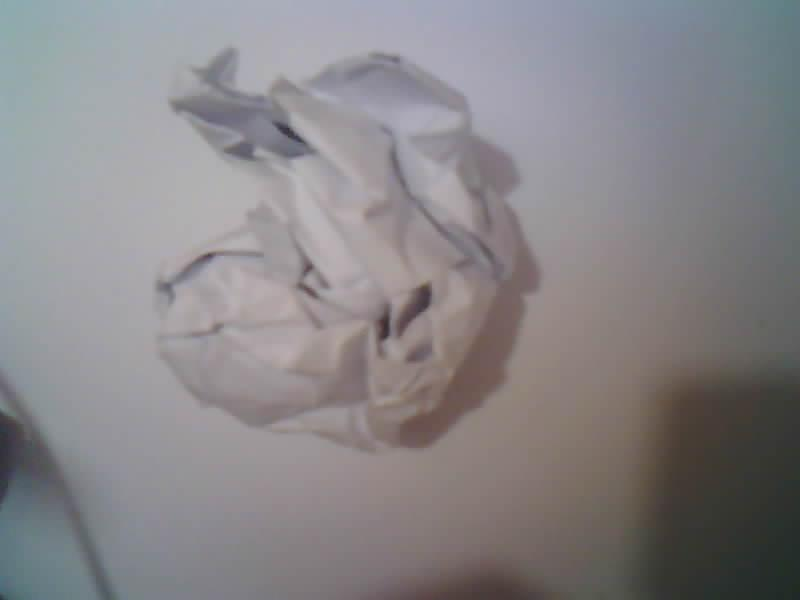biodegradable: (155, 48, 514, 449)
